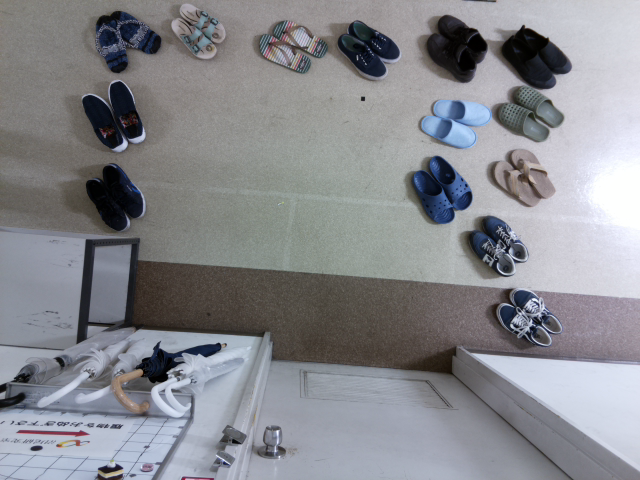Copy of Copy of Copy of Copy of Copy of Copy of Copy of Copy of Copy of Copy of: (79, 88, 131, 158), (512, 22, 575, 76), (98, 156, 148, 221), (84, 170, 132, 236), (103, 75, 148, 144), (502, 40, 558, 95), (433, 11, 491, 63), (333, 30, 387, 85), (422, 32, 480, 83), (345, 17, 403, 68), (509, 83, 568, 132), (88, 11, 133, 74), (107, 6, 161, 58), (494, 99, 552, 147), (254, 31, 315, 76), (268, 20, 331, 62), (170, 16, 218, 61), (177, 1, 226, 45)
Copy of Copy of Copy of Copy of Copy of Copy of Copy of Copy of Copy of shoe: (429, 95, 492, 126)
Copy of Copy of Copy of Copy of Copy of Copy of Copy of Copy of shoe: (413, 111, 481, 153)
Copy of Copy of Copy of Copy of Copy of Copy of Copy of shoe: (505, 146, 558, 199)
Copy of Copy of Copy of Copy of Copy of Copy of shoe: (487, 156, 540, 209)
Copy of Copy of Copy of Copy of Copy of shoe: (424, 152, 473, 211)
Copy of Copy of Copy of Copy of shoe: (408, 168, 457, 226)
Copy of Copy of Copy of shoe: (479, 212, 531, 266)
Copy of Copy of shoe: (465, 227, 518, 278)
Copy of shoe: (494, 300, 551, 352)
shoe: (506, 285, 563, 336)
